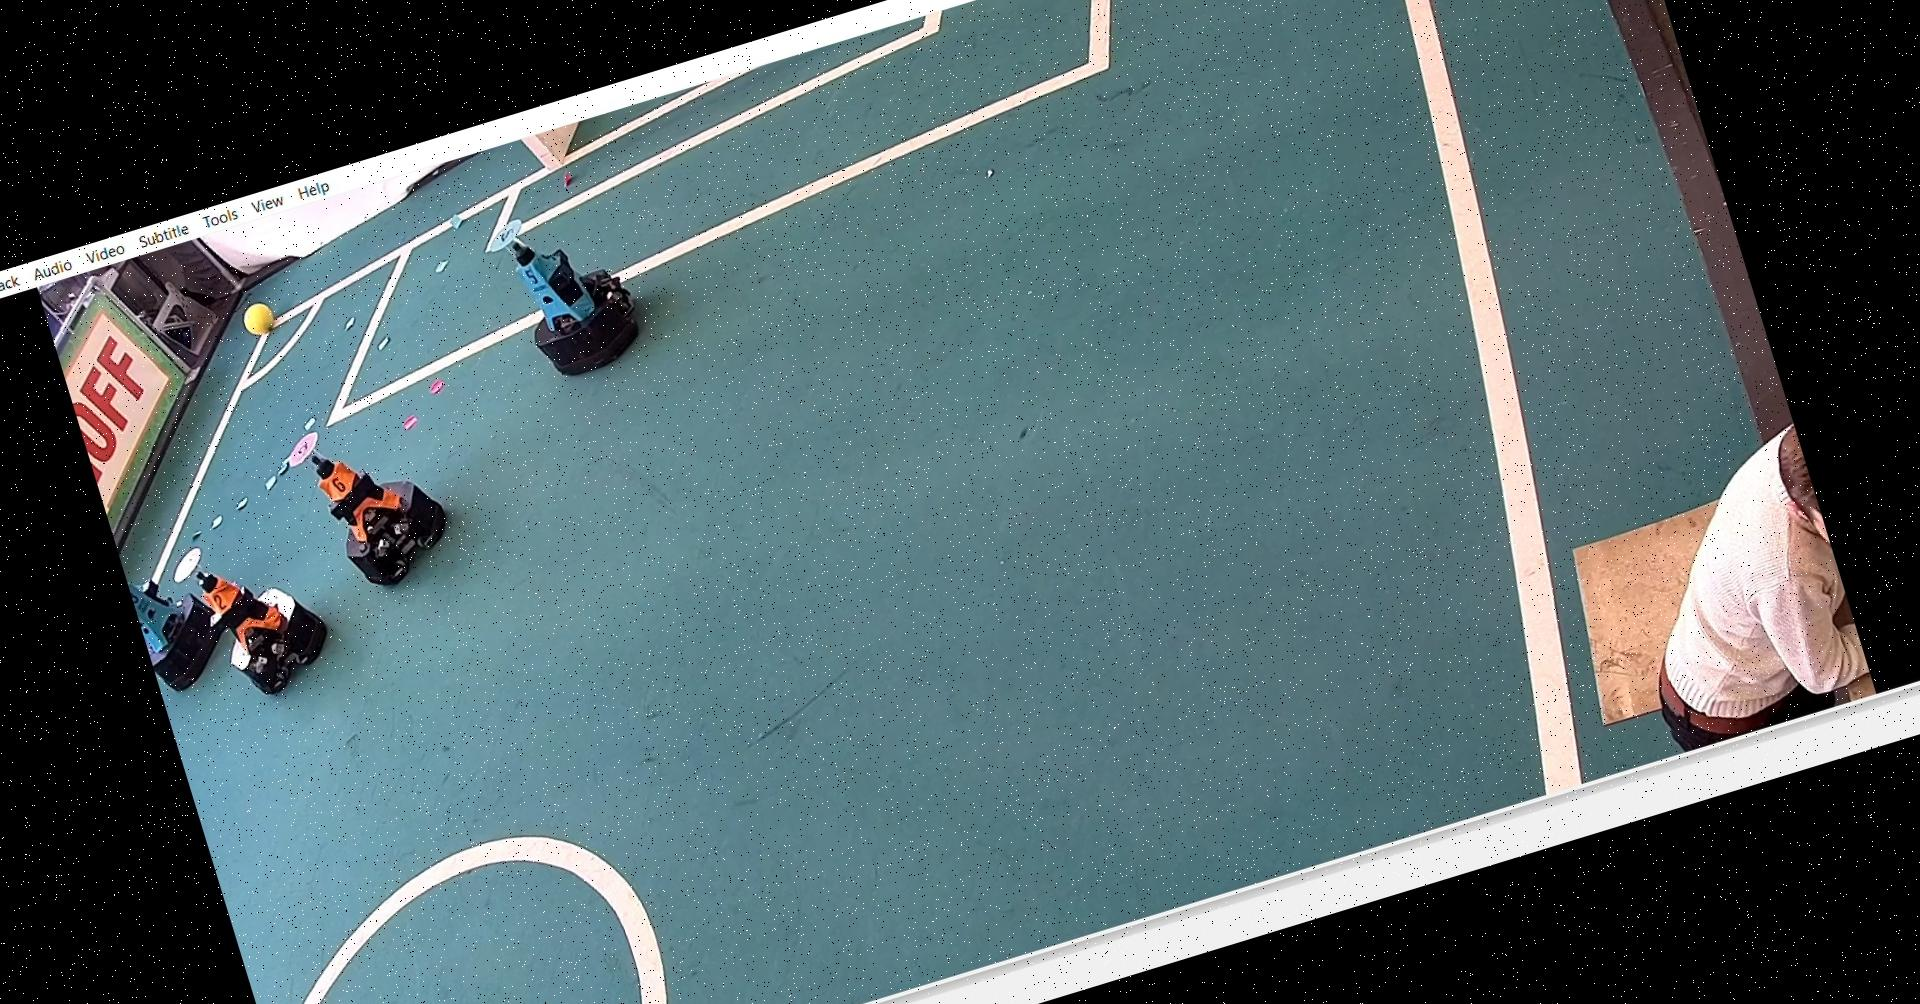Ball: (245, 293, 288, 335)
Team_Blue: (477, 178, 664, 393), (126, 542, 248, 693)
Team_Red: (274, 390, 463, 602), (178, 514, 340, 703)
